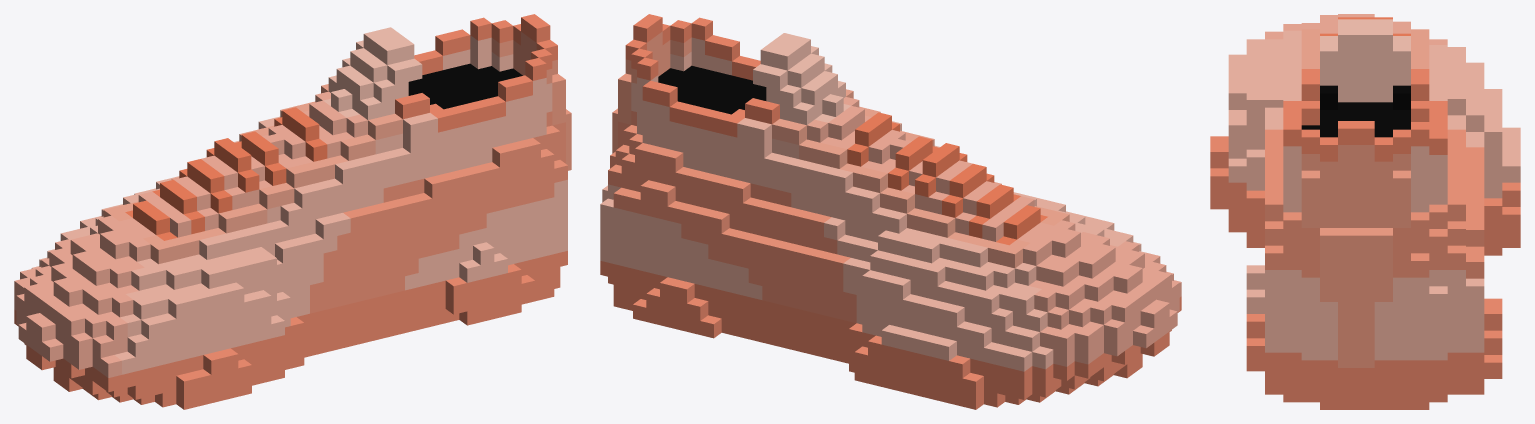
The model's file is Peach Pumpkin.fbx.
3 renders of one model, left to right at view 1: azimuth 30°, elevation 25°; view 2: azimuth 150°, elevation 25°; view 3: azimuth 270°, elevation 25°, orthographic. The views are drawn at different scales.
Parts seen in each view (by area): view 1: Untitled; view 2: Untitled; view 3: Untitled.
Part boxes in pixels (box(x1,y1,x2,y2)): Untitled: box(14, 14, 571, 409); Untitled: box(600, 14, 1181, 409); Untitled: box(1210, 14, 1520, 409).
Size of the model in its own units: 390 by 180 by 170.
